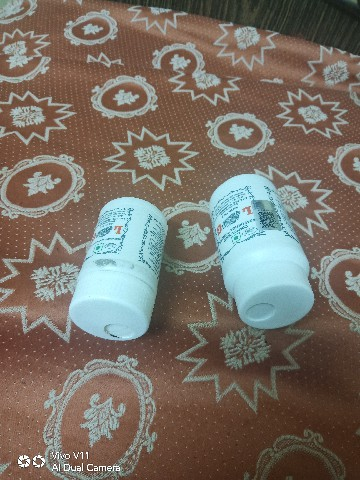lgasafoetidapowder large: (189, 124, 322, 331)
lgasafoetidapowder small: (56, 177, 172, 353)
